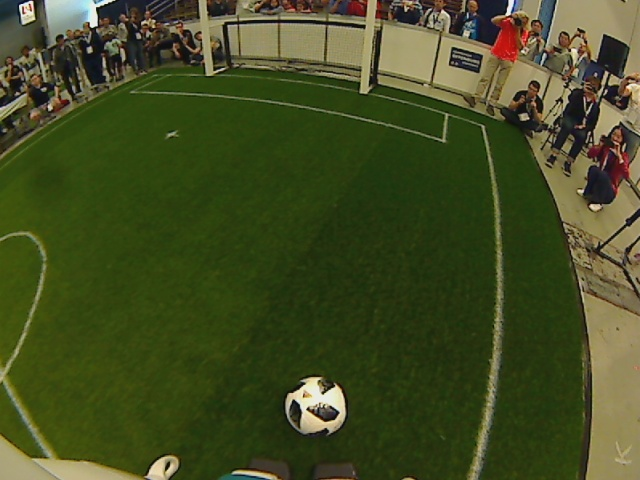ball: (281, 375, 348, 439)
goalpost: (349, 75, 374, 107), (196, 58, 219, 89)
